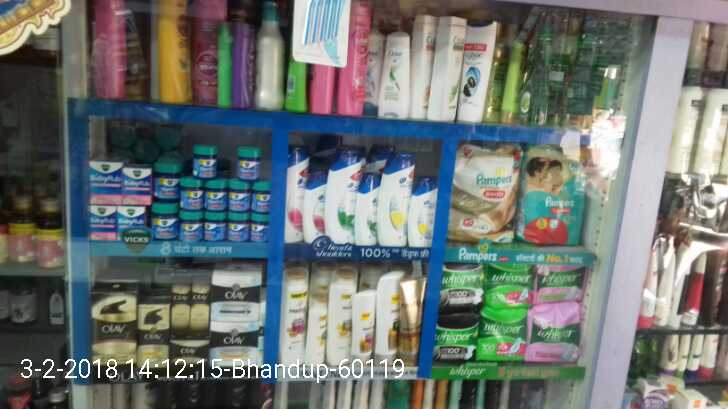vicks: (92, 144, 272, 243)
